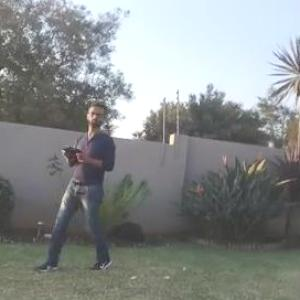follow: (26, 92, 112, 275)
